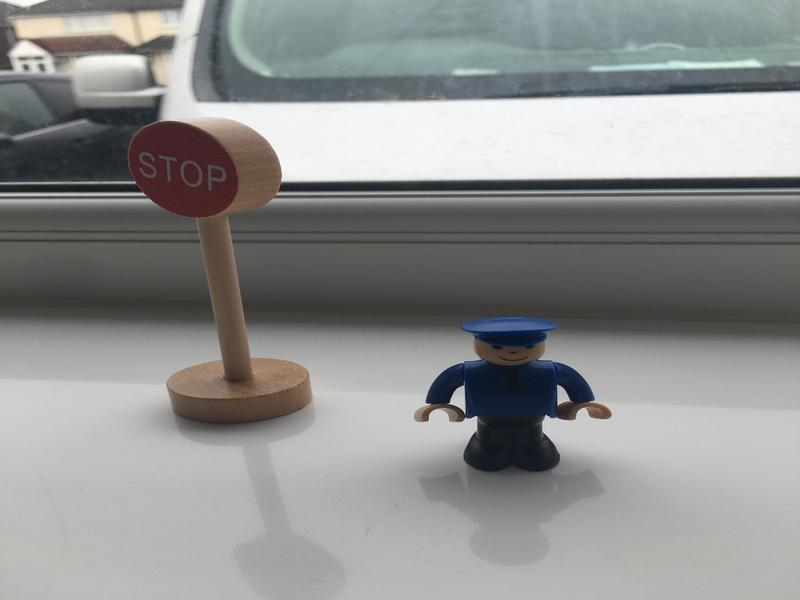Traffic_Sign_Stop: (126, 122, 238, 217)
person: (412, 315, 614, 486)
